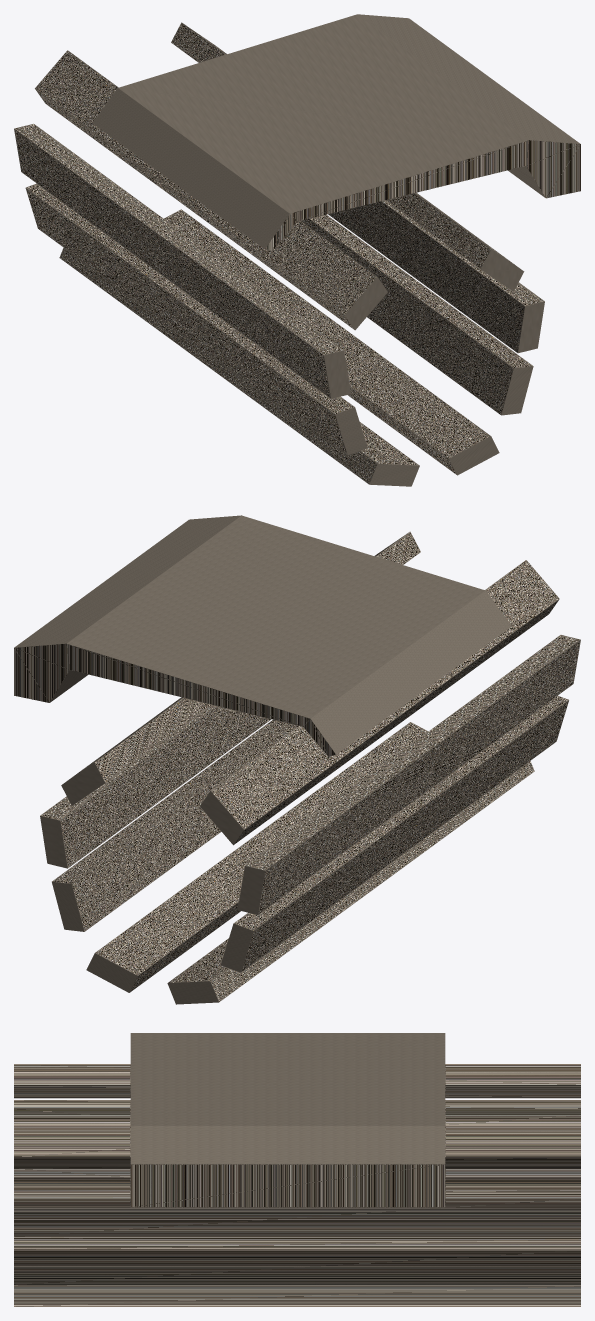
File: MissilePod_Right.fbx
The picture shows the model from 3 angles, top to bottom: view 1: azimuth 30°, elevation 25°; view 2: azimuth 150°, elevation 25°; view 3: azimuth 270°, elevation 25°; orthographic projection. The views are drawn at different scales.
Visible parts, largest first — view 1: MissilePod_Right; view 2: MissilePod_Right; view 3: MissilePod_Right.
Part boxes in pixels (x1,y1,x2,y2): MissilePod_Right: (14, 14, 580, 486); MissilePod_Right: (14, 515, 580, 1004); MissilePod_Right: (14, 1033, 580, 1306).
Size of the model in its own units: 31.17 by 23.73 by 52.15.
